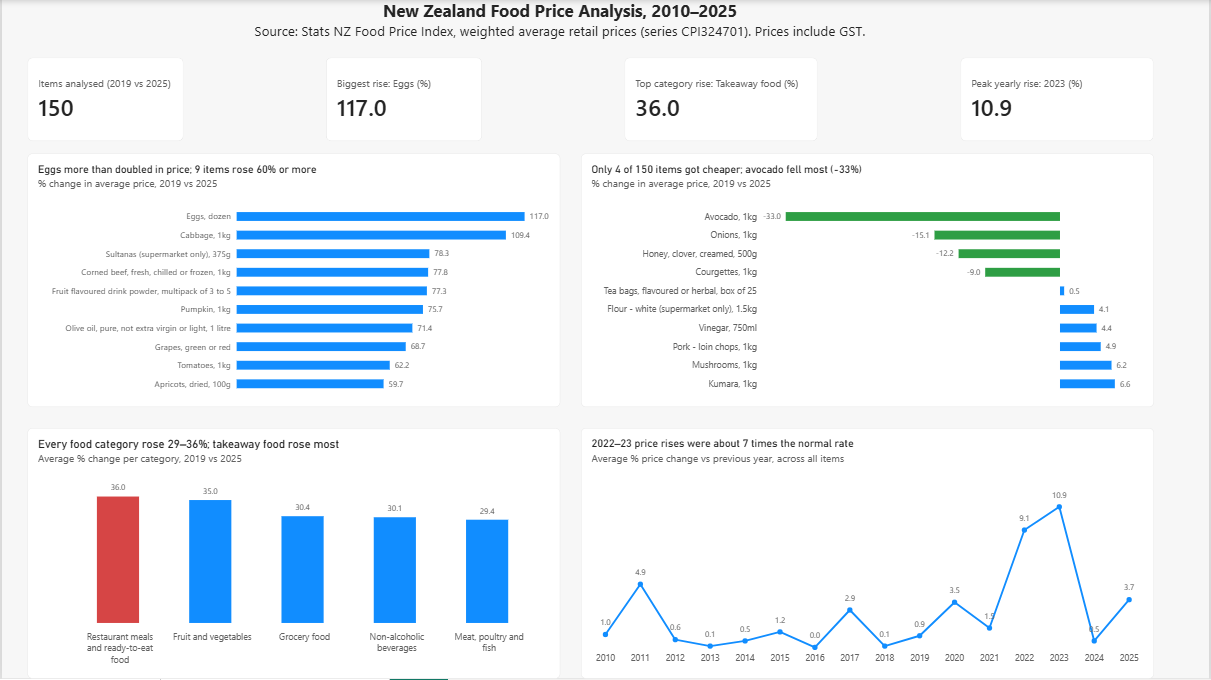

Layout of this report page (visuals, bound fields, positions):
{"tool":"powerbi","page":{"name":"Price Trends Overview","canvas":[1920,1080],"ordinal":0},"visuals":[{"type":"barChart","title":"Eggs more than doubled in price; 9 items rose 60% or more","fields":{"Category":["q1_top_increases.ItemFull"],"Y":["Sum(q1_top_increases.pct_change)"]},"box":[40.6,245.7,847,403.2],"z":0},{"type":"barChart","title":"Only 4 of 150 items got cheaper; avocado fell most (−33%)","fields":{"Category":["q2_smallest_increases.ItemFull"],"Y":["Sum(q2_smallest_increases.pct_change)"]},"box":[921,245.7,911.4,403.2],"z":1000},{"type":"clusteredColumnChart","title":"Every food category rose 29–36%; takeaway food rose most","fields":{"Category":["q3_categories.Category"],"Y":["Sum(q3_categories.avg_pct_change)"]},"box":[40.6,682.4,847,398.4],"z":2000},{"type":"lineChart","title":"2022–23 price rises were about 7 times the normal rate","fields":{"Category":["q4_year_on_year.year"],"Y":["Sum(q4_year_on_year.avg_yoy_pct_change)"]},"box":[921,682.4,911.4,398.4],"z":3000},{"type":"cardVisual","fields":{"Data":["Sum(q3_categories.items_compared)"]},"box":[40.6,93.1,248.1,133.6],"z":4000},{"type":"cardVisual","fields":{"Data":["Max(q1_top_increases.pct_change)"]},"box":[515.4,93.1,248.1,133.6],"z":5000},{"type":"cardVisual","fields":{"Data":["Max(q3_categories.avg_pct_change)"]},"box":[990.2,93.1,307.8,133.6],"z":6000},{"type":"cardVisual","fields":{"Data":["Max(q4_year_on_year.avg_yoy_pct_change)"]},"box":[1524.6,93.1,307.8,133.6],"z":7000},{"type":"textbox","box":[40.6,0,1694,93.1],"z":8000}]}

Visuals, with their boxes in screenshot pixels (x1, y1, x2, y2), scaled from the page's 1920x1080 canvas onto the 1211x680 screenshot:
"Eggs more than doubled in price; 9 items rose 60% or more" barChart: 26,155,560,409
"Only 4 of 150 items got cheaper; avocado fell most (−33%)" barChart: 581,155,1156,409
"Every food category rose 29–36%; takeaway food rose most" clusteredColumnChart: 26,430,560,679
"2022–23 price rises were about 7 times the normal rate" lineChart: 581,430,1156,679
cardVisual - Sum(q3_categories.items_compared): 26,59,182,143
cardVisual - Max(q1_top_increases.pct_change): 325,59,482,143
cardVisual - Max(q3_categories.avg_pct_change): 625,59,819,143
cardVisual - Max(q4_year_on_year.avg_yoy_pct_change): 962,59,1156,143
textbox: 26,0,1094,59
